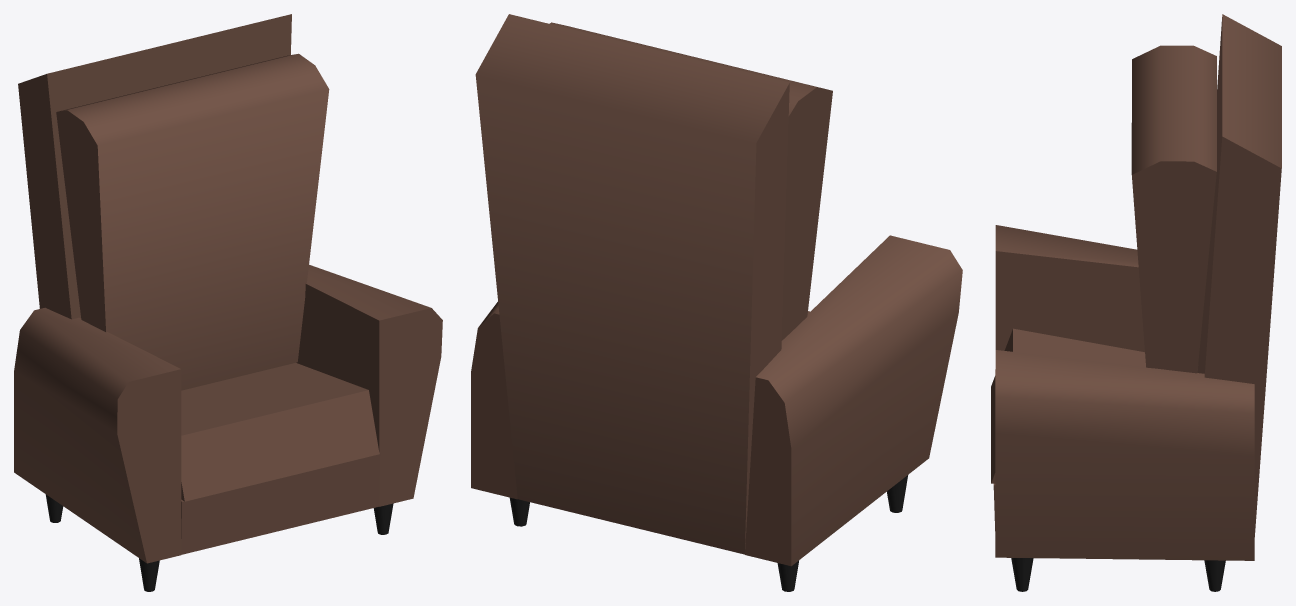
The model's file is simple__sofa.fbx.
3 views of the same model, side by side, from view 1: azimuth 30°, elevation 25°; view 2: azimuth 150°, elevation 25°; view 3: azimuth 270°, elevation 25° (orthographic). The views are drawn at different scales.
Parts seen in each view (by area): view 1: Simple_form_sofa; view 2: Simple_form_sofa; view 3: Simple_form_sofa.
Part boxes in pixels (box(x1,y1,x2,y2)): Simple_form_sofa: box(14, 14, 442, 591); Simple_form_sofa: box(471, 14, 962, 591); Simple_form_sofa: box(991, 14, 1281, 591).
Size of the model in its own units: 1.11 by 1.46 by 0.8424.
